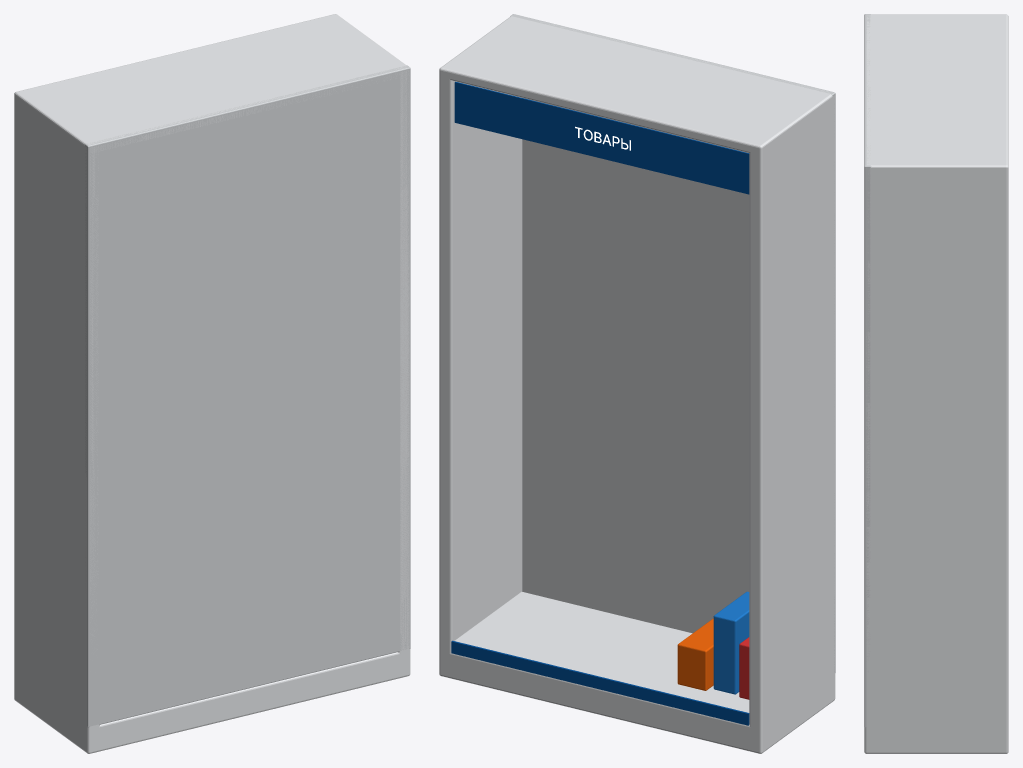
The model's file is goods-rack.glb.
The picture shows the model from 3 angles, left to right: view 1: azimuth 30°, elevation 25°; view 2: azimuth 150°, elevation 25°; view 3: azimuth 270°, elevation 25°; orthographic projection. The views are drawn at different scales.
Visible parts, largest first — view 1: body; view 2: body, shelf, goods; view 3: body.
Boxes of the visible parts, x1,y1,x2,y2 form: body: (14,14,410,753); body: (439,14,835,753); shelf: (451,591,749,725); goods: (677,591,749,699); body: (864,14,1008,753).
Bounding box in the file's own units: 1 × 1.8 × 0.4.
